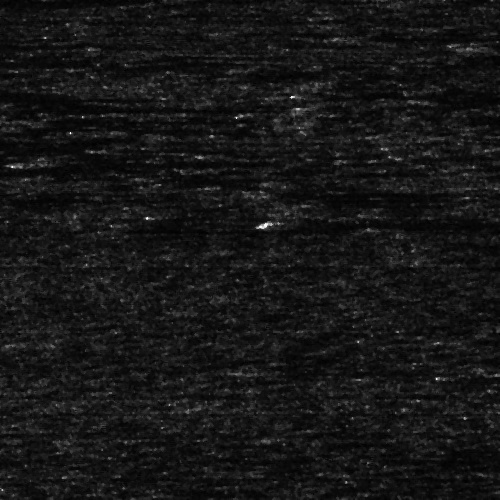object: (0, 156, 55, 169), (215, 368, 288, 373), (479, 38, 500, 49), (486, 364, 500, 377), (268, 218, 299, 223), (193, 30, 234, 33), (0, 103, 11, 114)
shadow: (23, 156, 253, 169), (0, 103, 209, 114), (284, 218, 500, 223), (0, 0, 184, 5), (252, 368, 399, 373), (0, 59, 66, 66), (214, 30, 297, 33)
